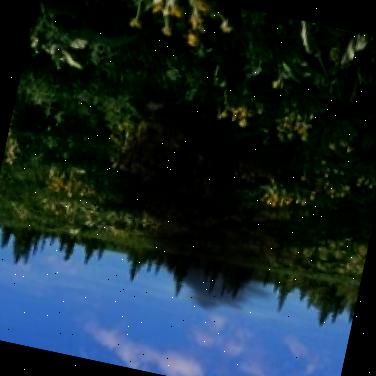smoke: (108, 103, 293, 313)
